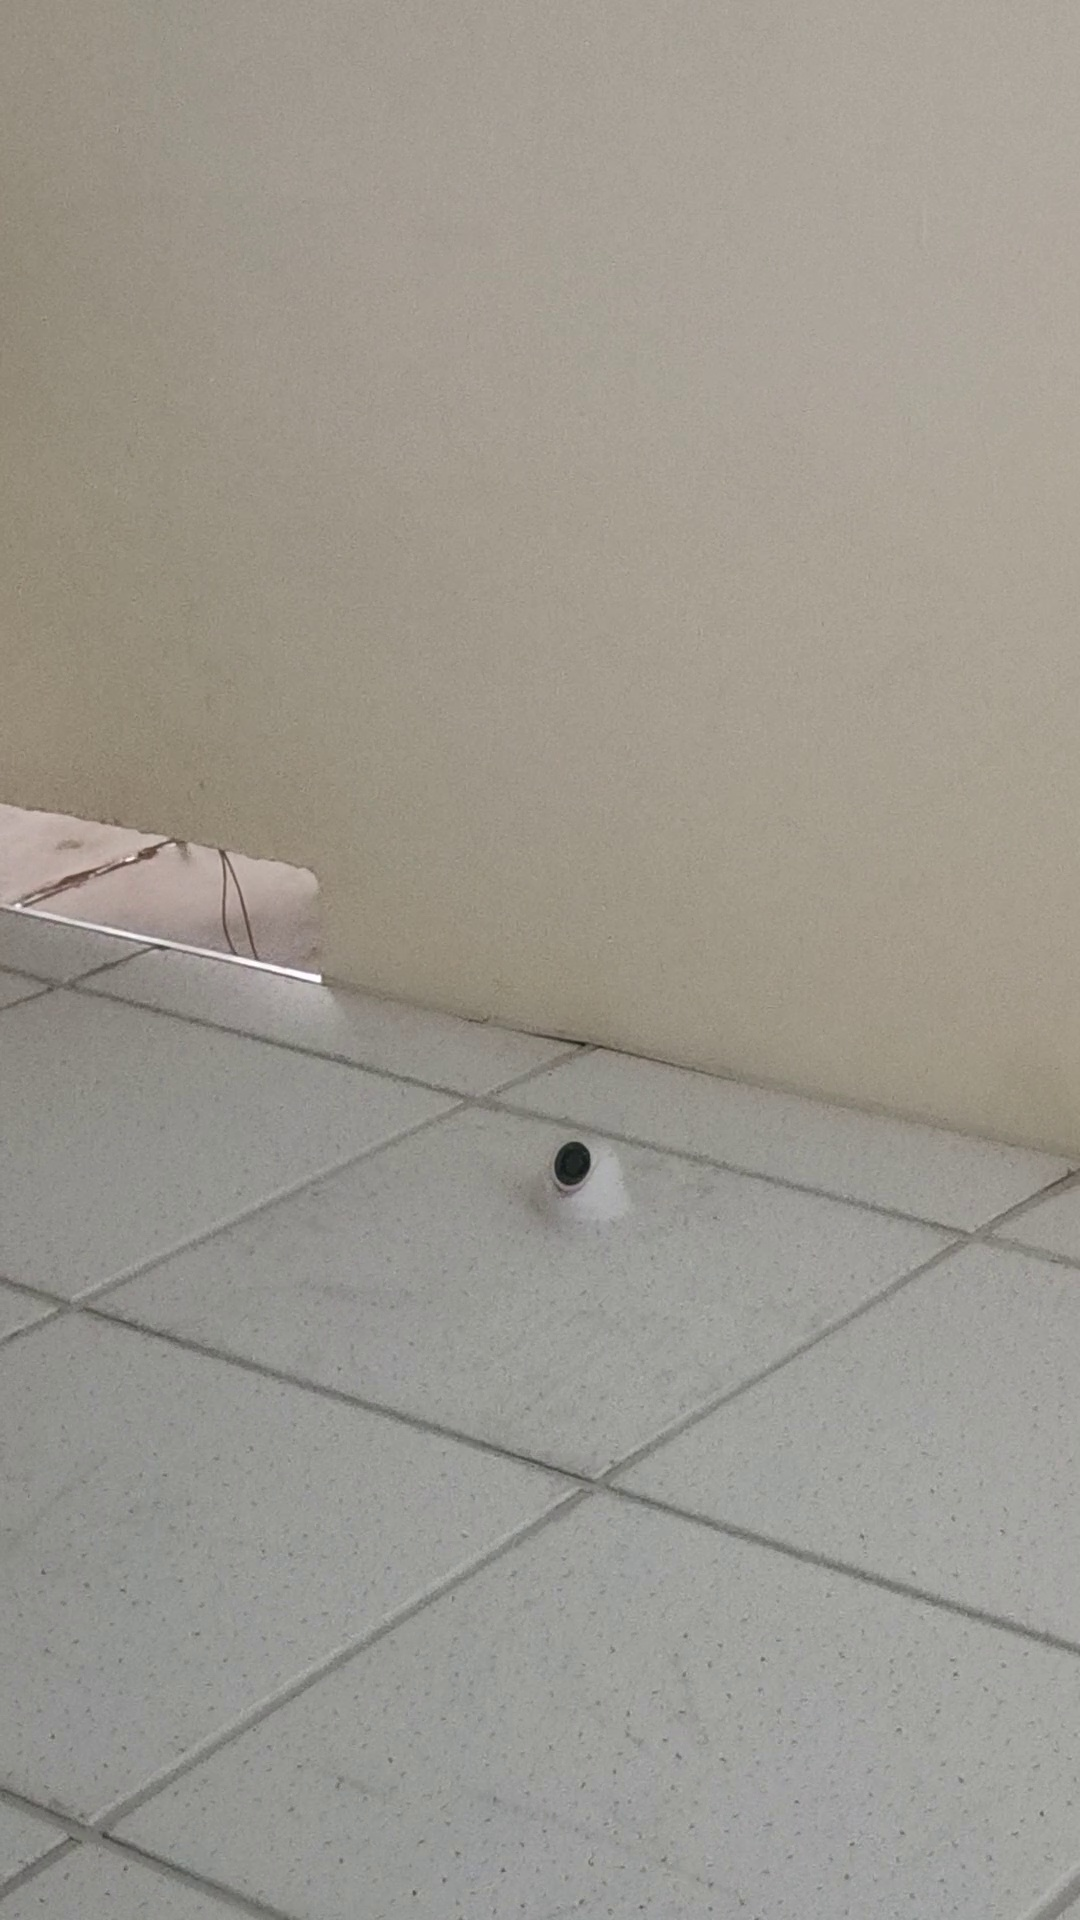cctv: (512, 1127, 666, 1237)
